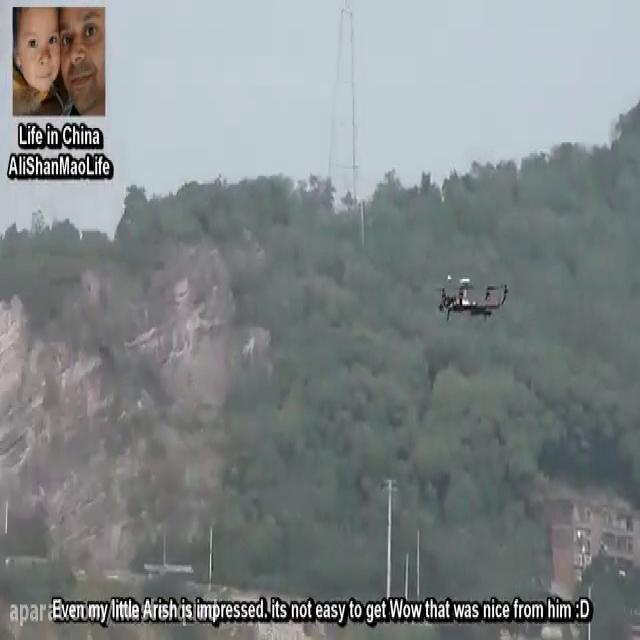drone: (432, 270, 512, 329)
